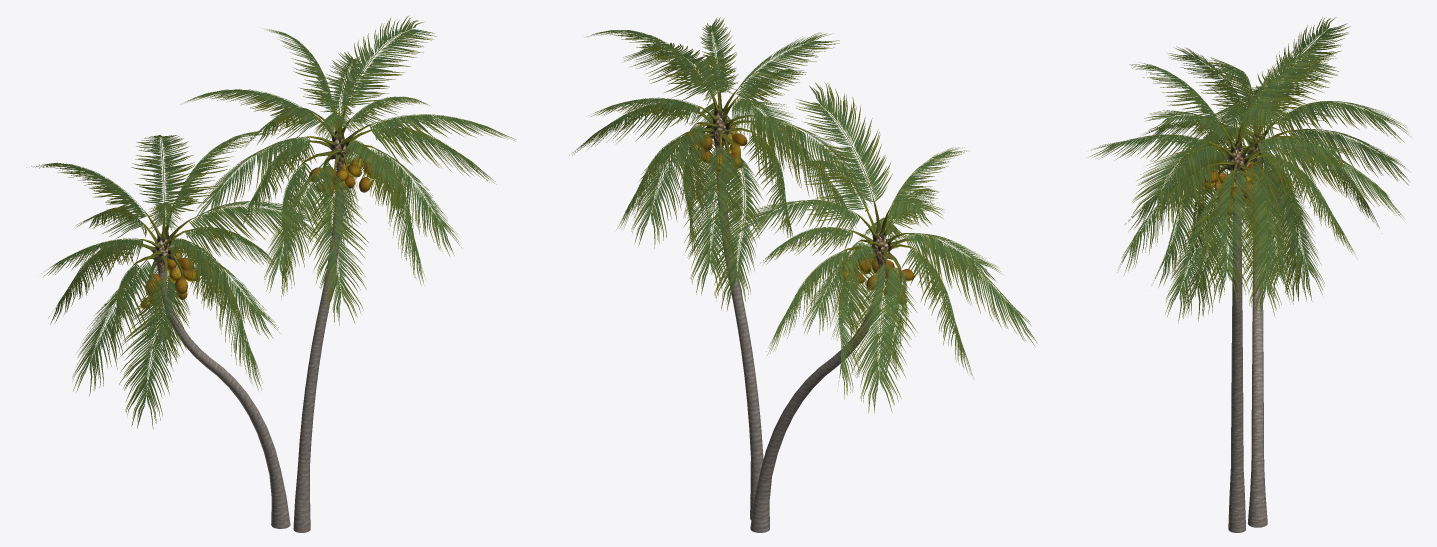
The model's file is palm.glb.
3 renders of one model, left to right at view 1: azimuth 30°, elevation 25°; view 2: azimuth 150°, elevation 25°; view 3: azimuth 270°, elevation 25°, orthographic. The views are drawn at different scales.
Visible parts, largest first — view 1: Tree_2_Tree_2Mat_0, Tree_0_Tree_0Mat_0, Tree_3_Tree_3Mat_0, Tree_4_Tree_4Mat_0; view 2: Tree_2_Tree_2Mat_0, Tree_0_Tree_0Mat_0, Tree_3_Tree_3Mat_0, Tree_4_Tree_4Mat_0, Tree_1_Tree_1Mat_0; view 3: Tree_2_Tree_2Mat_0, Tree_0_Tree_0Mat_0, Tree_3_Tree_3Mat_0, Tree_4_Tree_4Mat_0.
Boxes of the visible parts, box(x1,y1,x2,y2) form: Tree_2_Tree_2Mat_0: box(29, 15, 515, 429); Tree_0_Tree_0Mat_0: box(158, 170, 343, 532); Tree_3_Tree_3Mat_0: box(132, 98, 378, 295); Tree_4_Tree_4Mat_0: box(140, 154, 375, 308); Tree_2_Tree_2Mat_0: box(569, 17, 1037, 413); Tree_0_Tree_0Mat_0: box(716, 152, 885, 532); Tree_3_Tree_3Mat_0: box(679, 82, 917, 291); Tree_4_Tree_4Mat_0: box(685, 126, 914, 304); Tree_1_Tree_1Mat_0: box(712, 112, 888, 269); Tree_2_Tree_2Mat_0: box(1089, 17, 1410, 323); Tree_0_Tree_0Mat_0: box(1228, 201, 1267, 532); Tree_3_Tree_3Mat_0: box(1204, 112, 1296, 202); Tree_4_Tree_4Mat_0: box(1202, 162, 1283, 217).
Bounding box in the file's own units: 6.3 × 6.28 × 4.02.
Materials: 5 (5 with a texture image).
